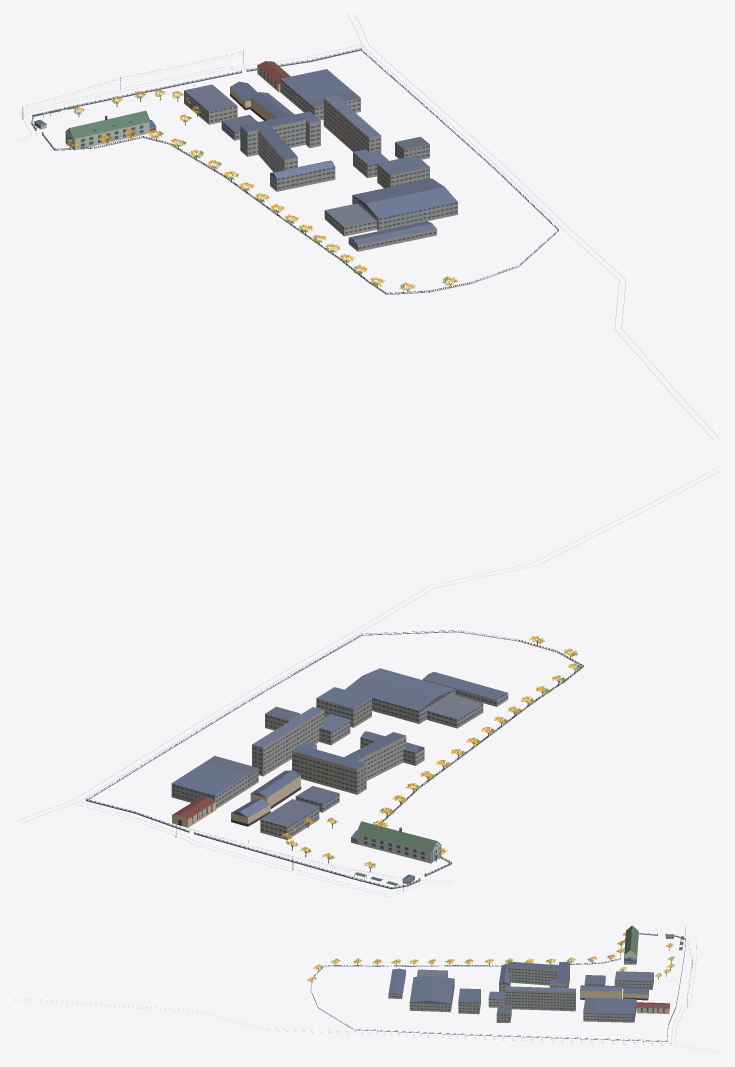
The model's file is ART_ShigaCampus.glb.
The picture shows the model from 3 angles, top to bottom: view 1: azimuth 30°, elevation 25°; view 2: azimuth 150°, elevation 25°; view 3: azimuth 270°, elevation 25°; orthographic projection. The views are drawn at different scales.
Visible parts, largest first — view 1: ART_ShigaCampus; view 2: ART_ShigaCampus; view 3: ART_ShigaCampus.
Boxes of the visible parts, <box> form: ART_ShigaCampus: <box>15,14,720,439</box>; ART_ShigaCampus: <box>14,469,719,896</box>; ART_ShigaCampus: <box>15,925,716,1052</box>.
Bounding box in the file's own units: 299 × 21.14 × 710.
